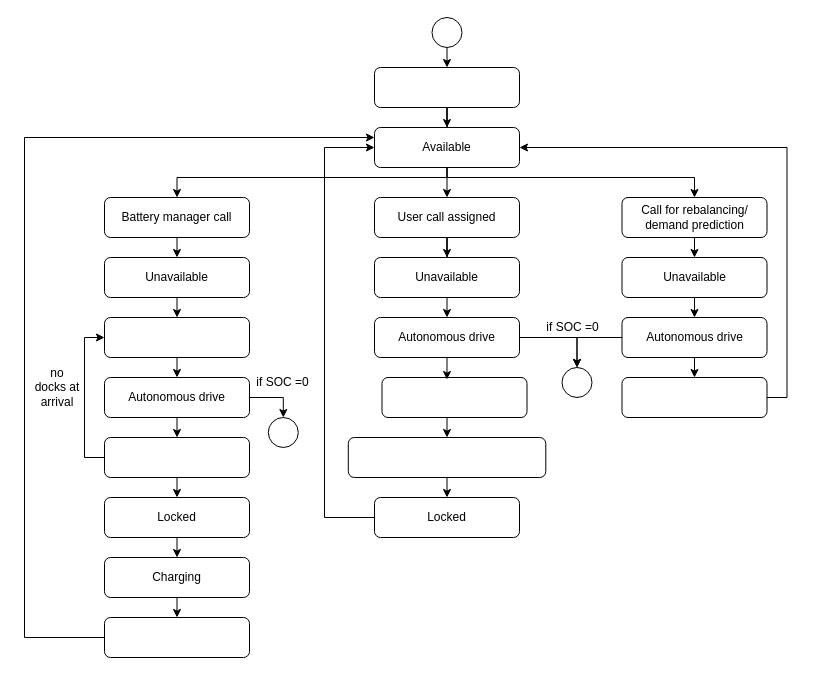
Image size: 813x675. Some labels were removed from this diagram. Here are the shapes that lost their labels. From the top down, the centre of each, then its label:
[447,87]: Bike initialized at origin
[177,337]: Select charging station
[454,397]: Bike meets user
[694,397]: Bike at target location
[177,457]: Bike at station
[446,457]: Transported to other location
[177,637]: Unlocked
